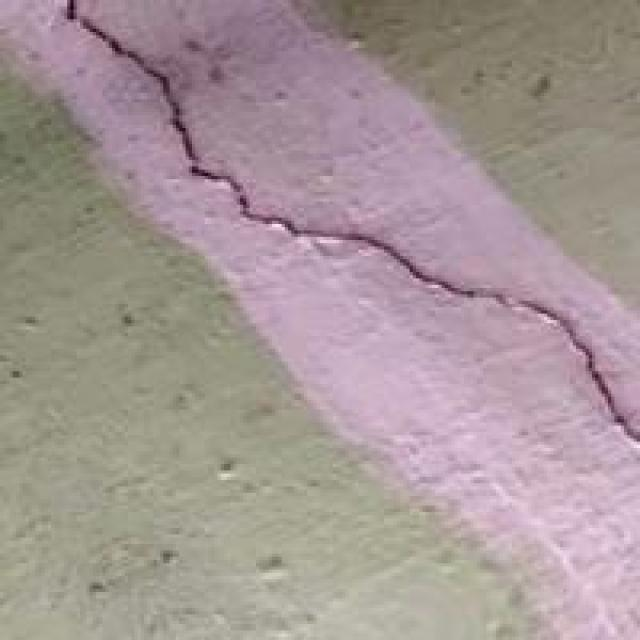crack: (54, 0, 637, 477)
